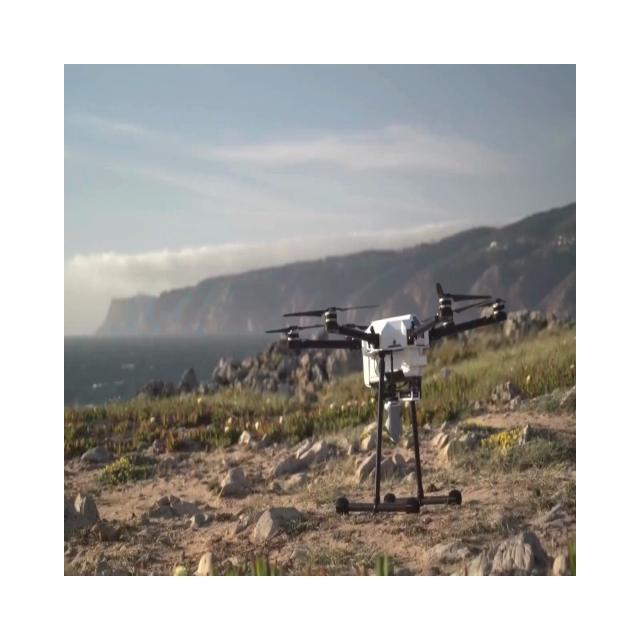drone: (265, 281, 507, 516)
